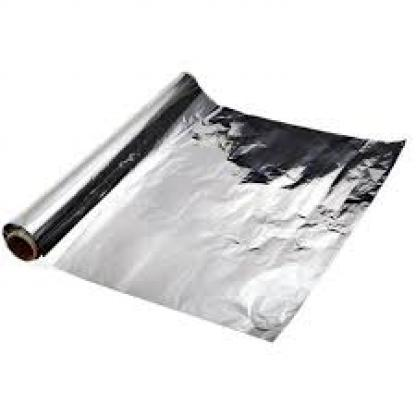Compsot: (0, 68, 407, 342)
